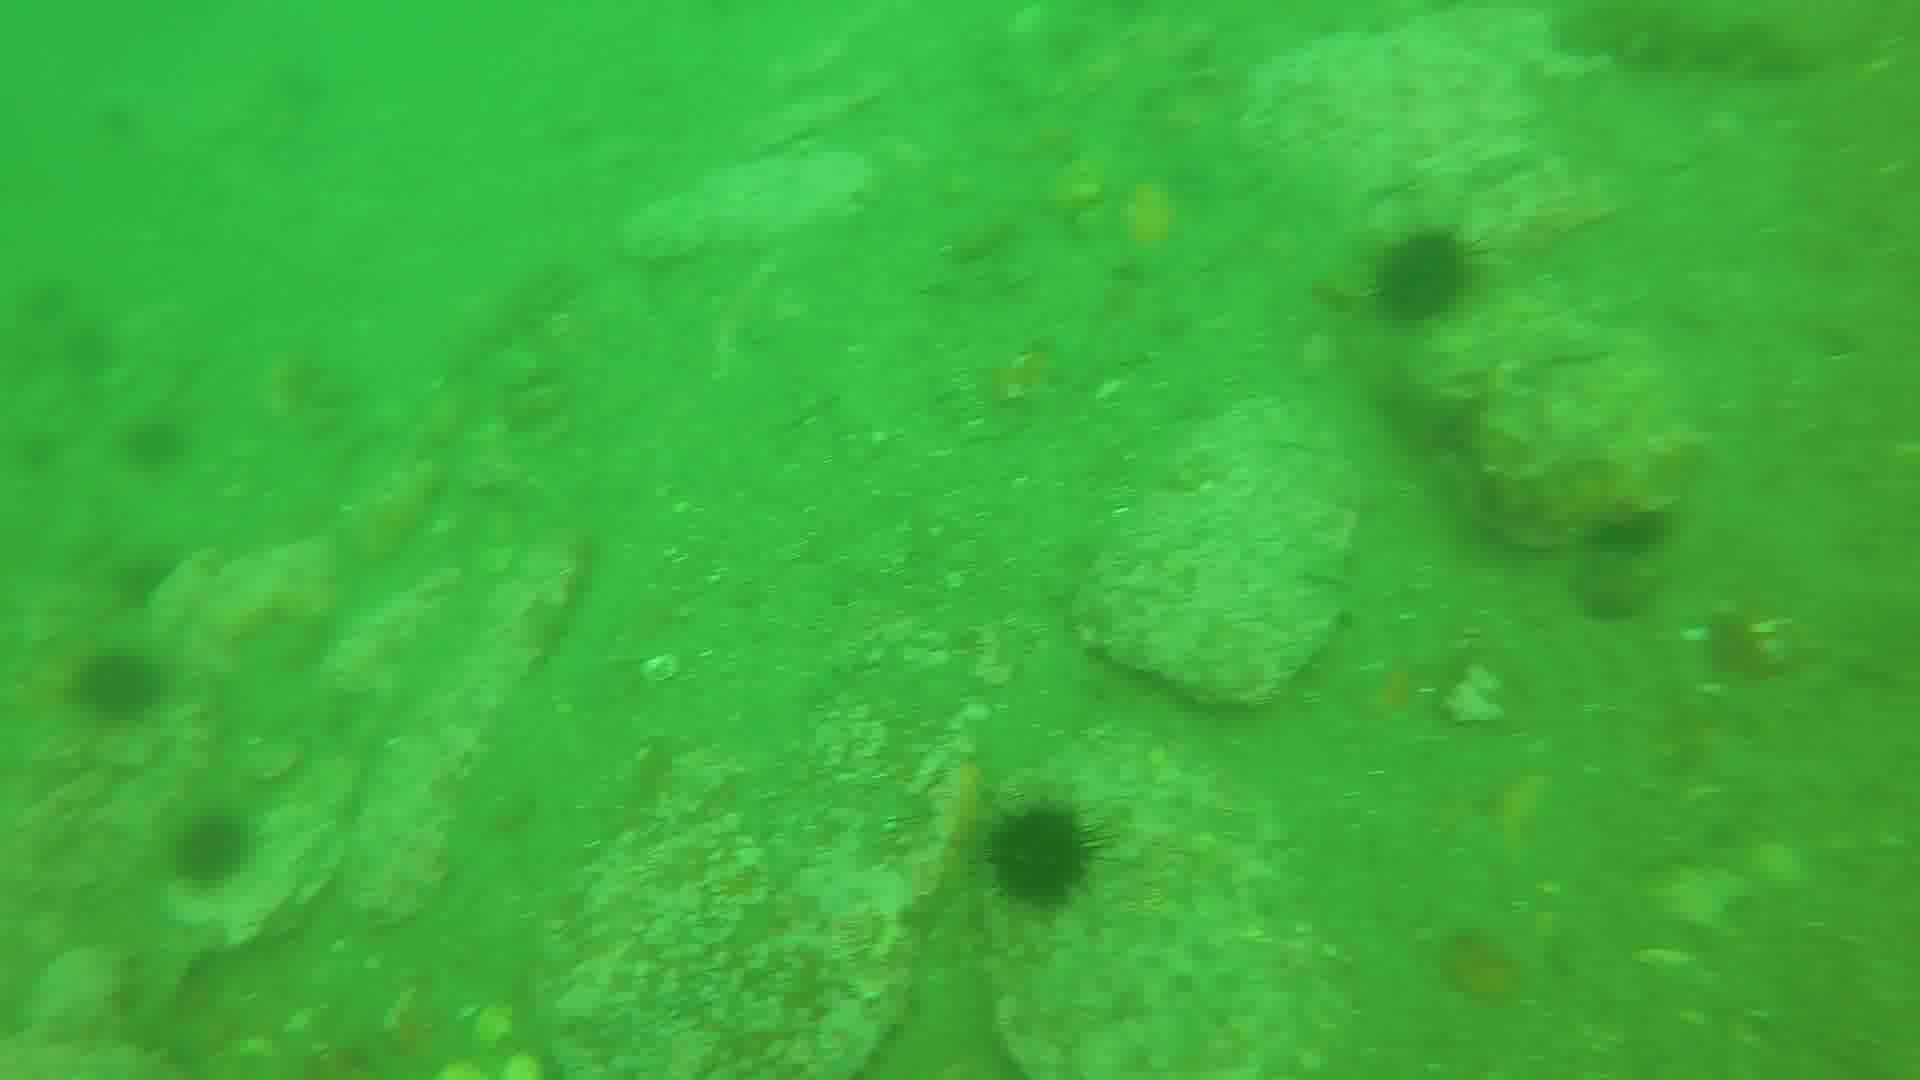echinus: (993, 808, 1102, 899), (1383, 235, 1469, 318), (173, 807, 256, 891), (74, 651, 164, 729)
